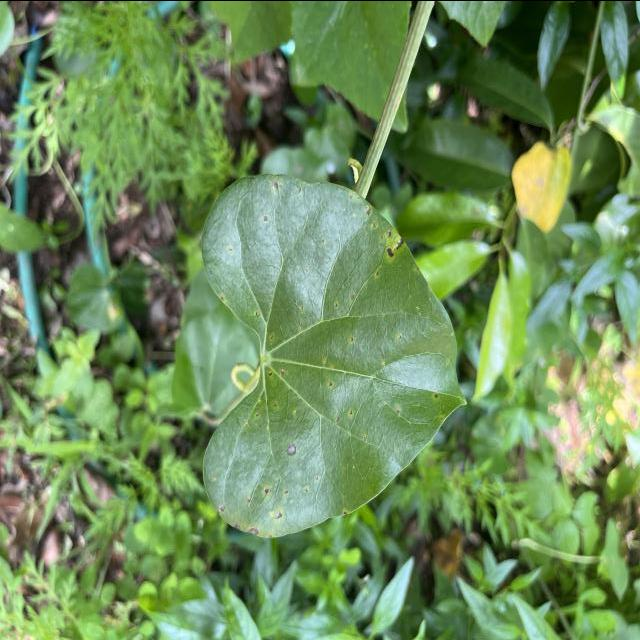Tinospora cordifolia: (198, 169, 471, 541)
